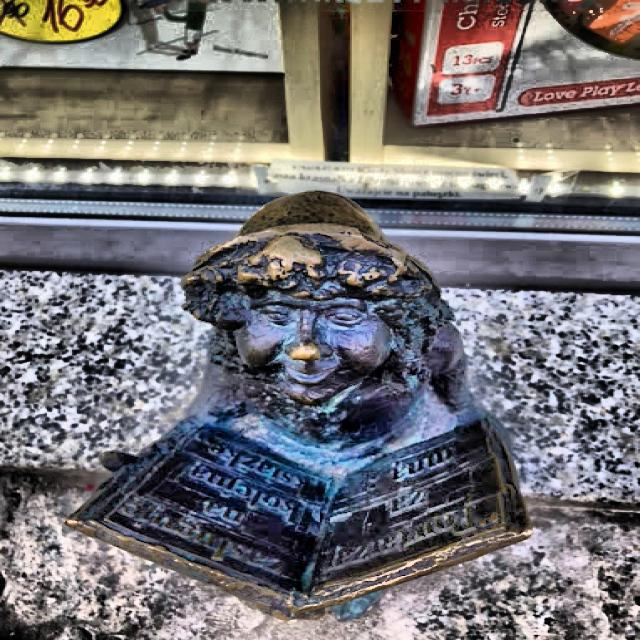Ksiegarka: (61, 187, 544, 625)
